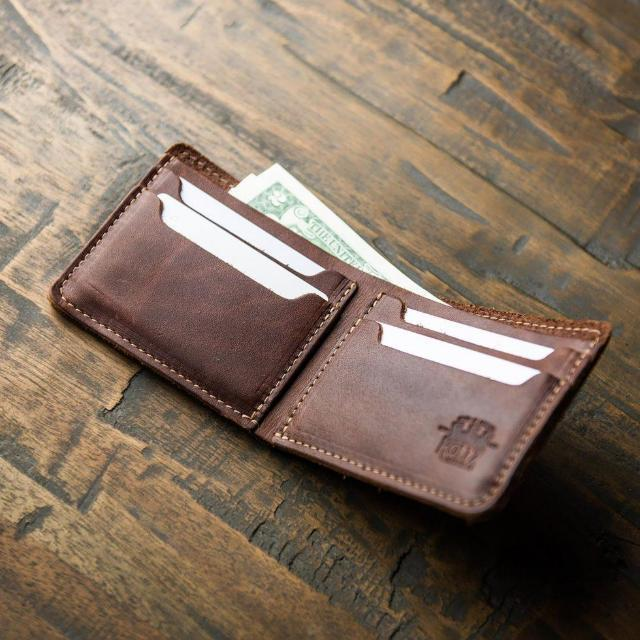wallet: (42, 136, 616, 522)
